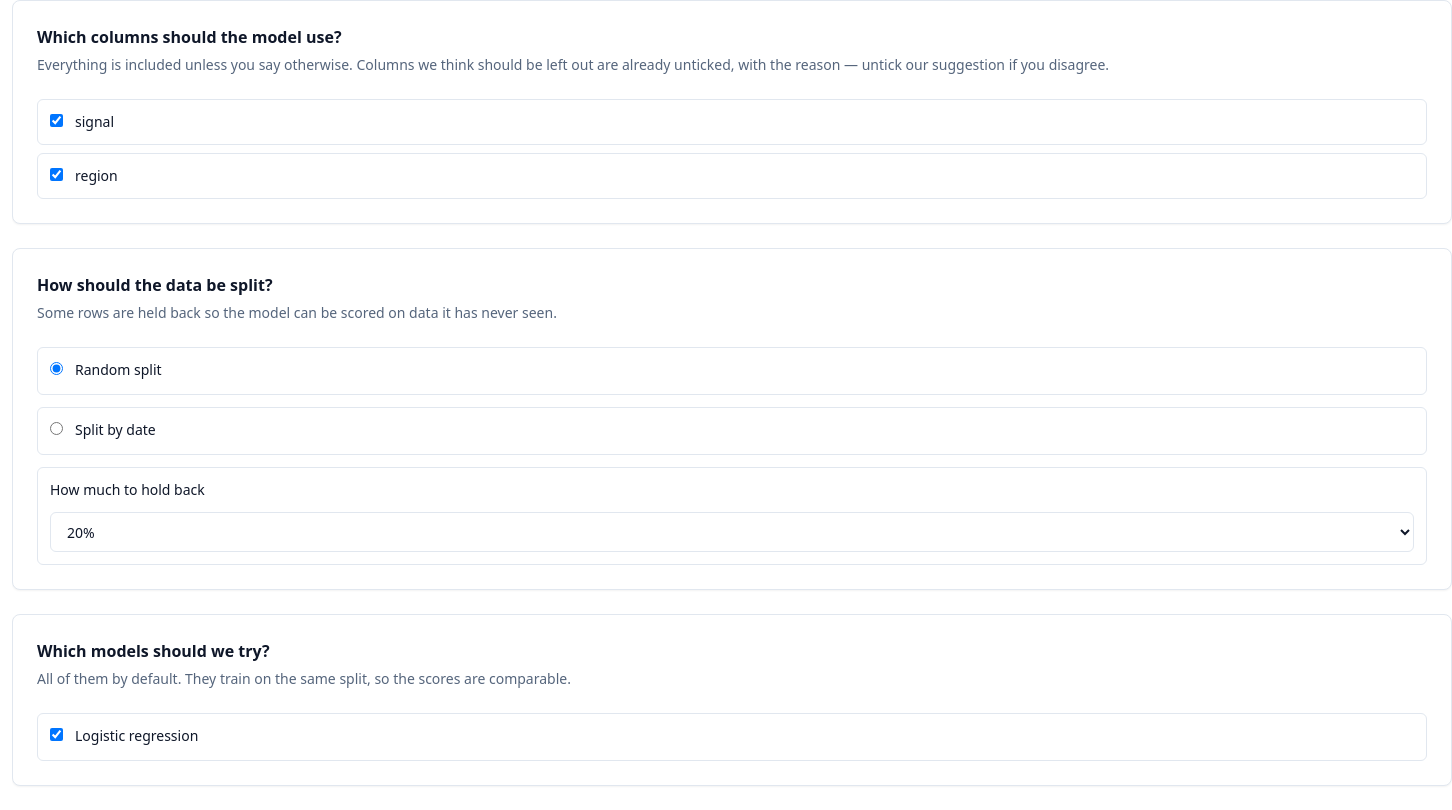
ModelPlanForm — a gap between training and test (#20) › will not train on a gap that is not a sensible number of days
Click the radio button labelled "Split by date". click: (56, 428)
box: 50,422 -> 63,435
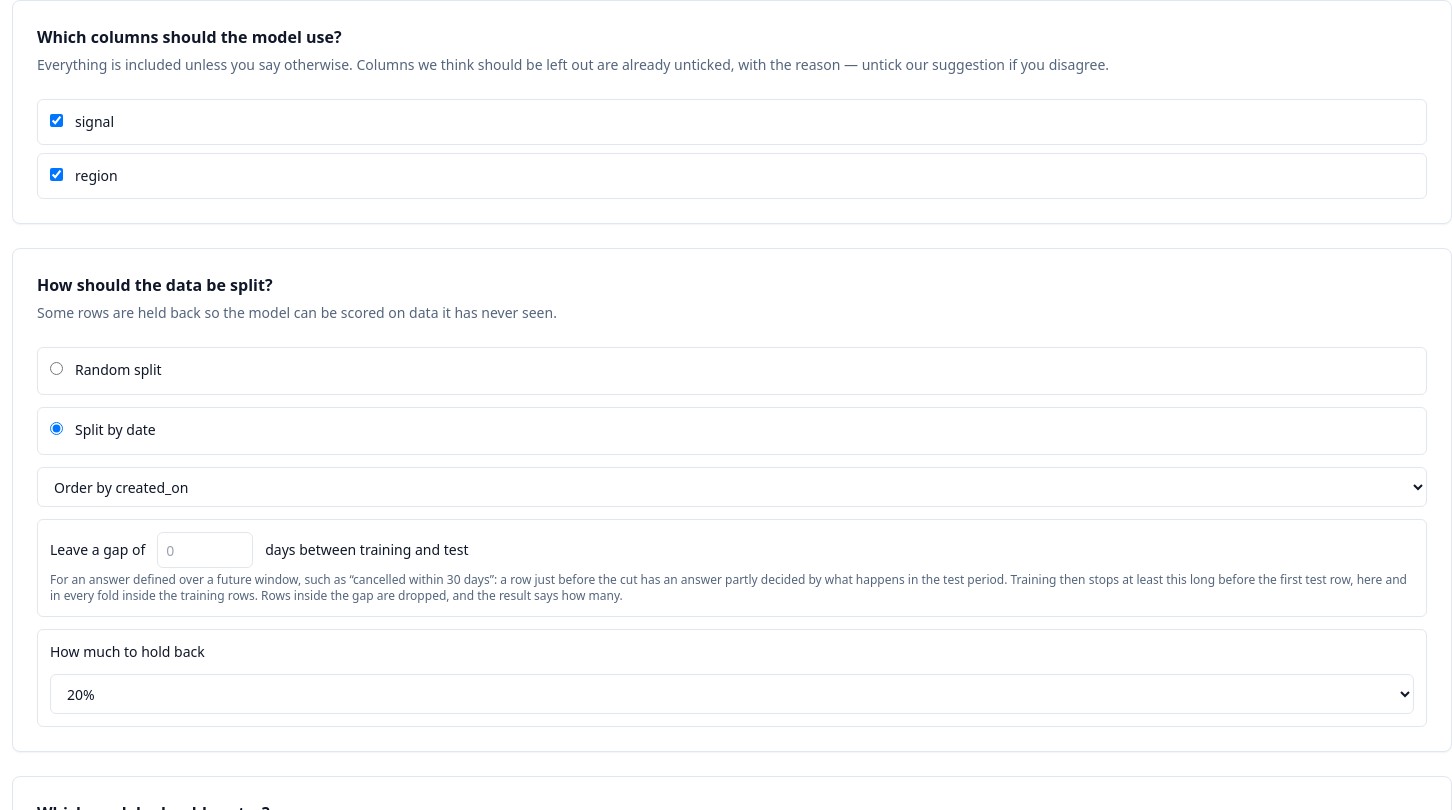
Type "-5" into the number field named "Days to leave between training and test". click: (205, 550)
box: 157,532 -> 253,568
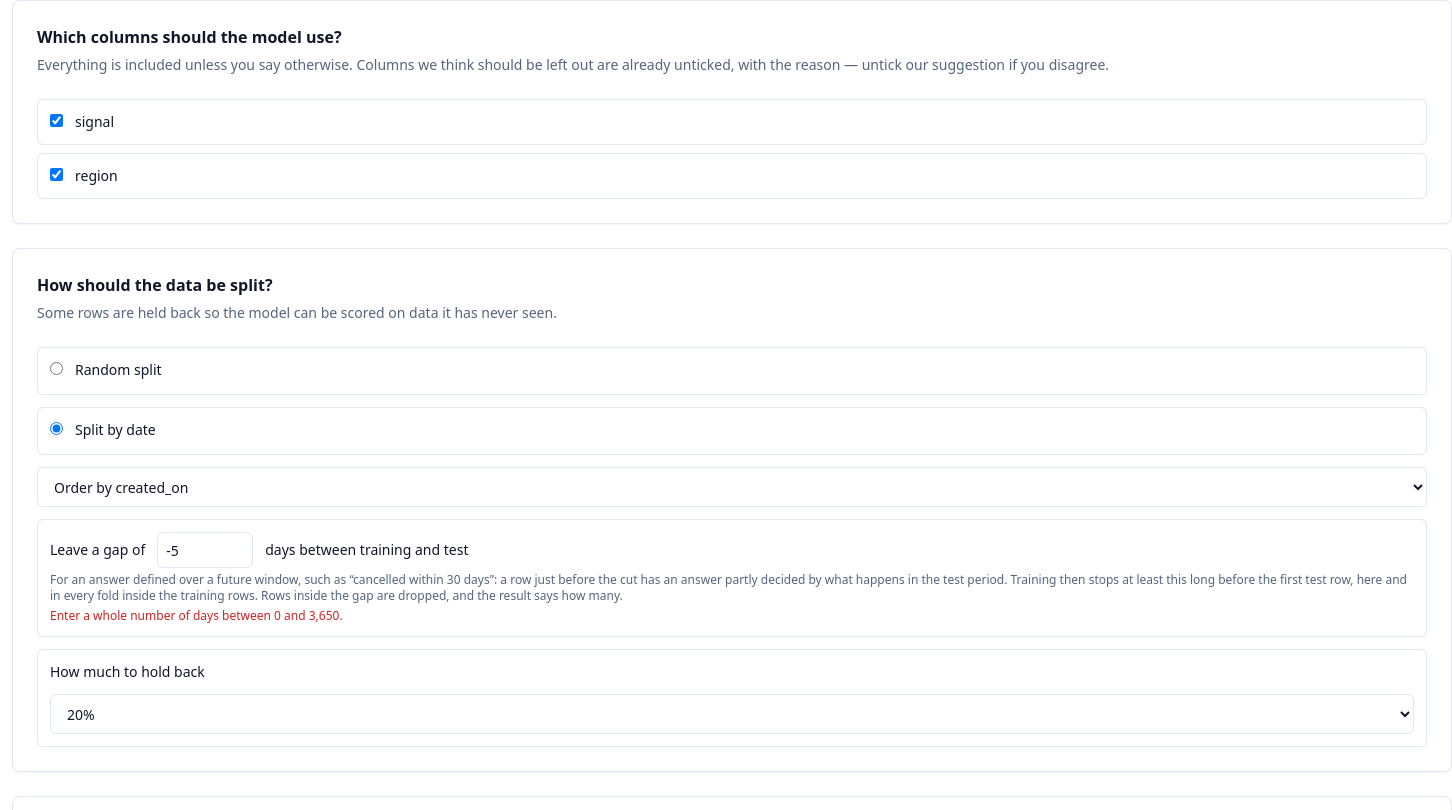
Expected: the text "Enter a whole number of days between 0 and 3,650." is shown, 50,607 -> 343,624
Replace the text in the number field named "Days to leave between training and test" with "14". click: (205, 550)
box: 157,532 -> 253,568
(page scrolled)
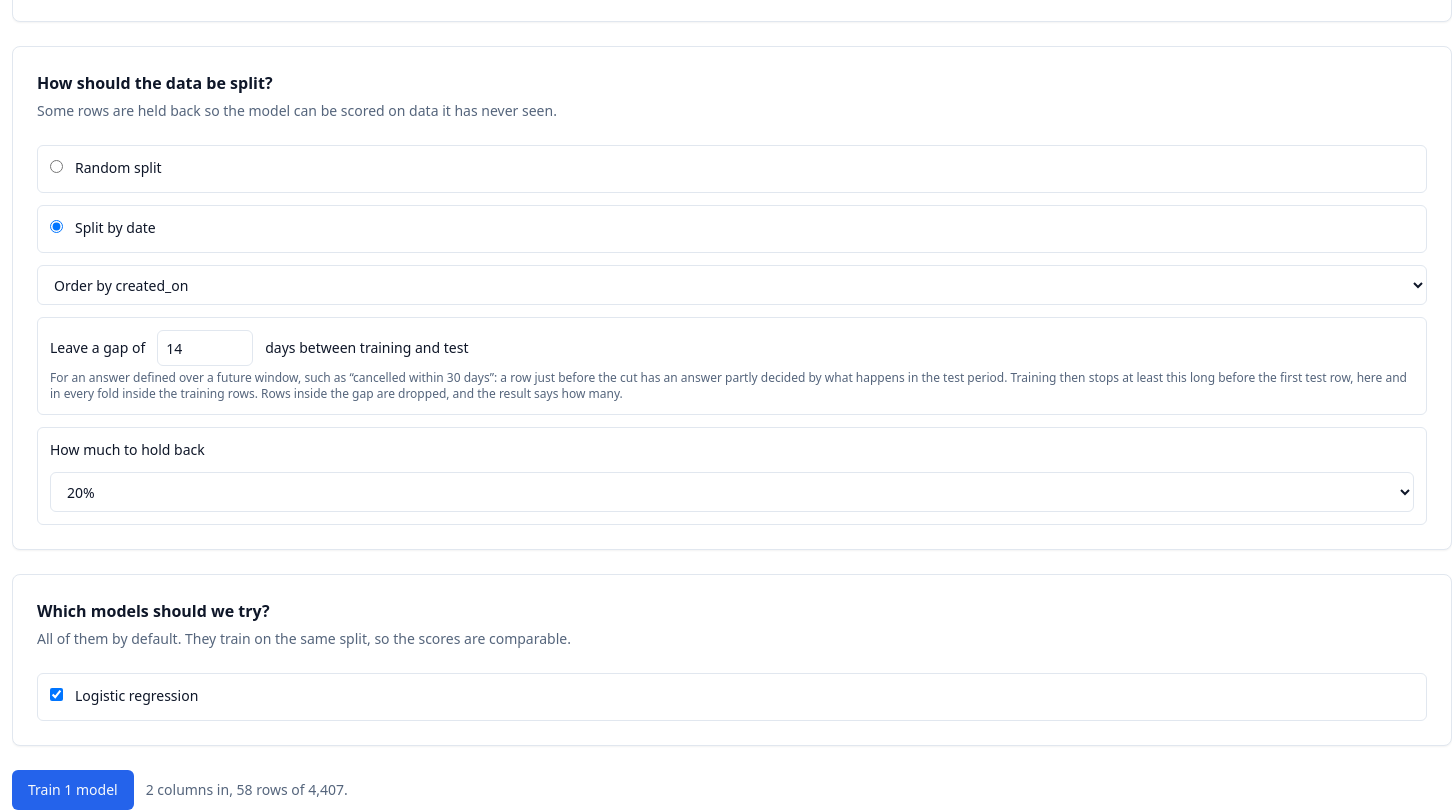
Expected: the button "Train 1 model" is enabled, 12,770 -> 134,809
